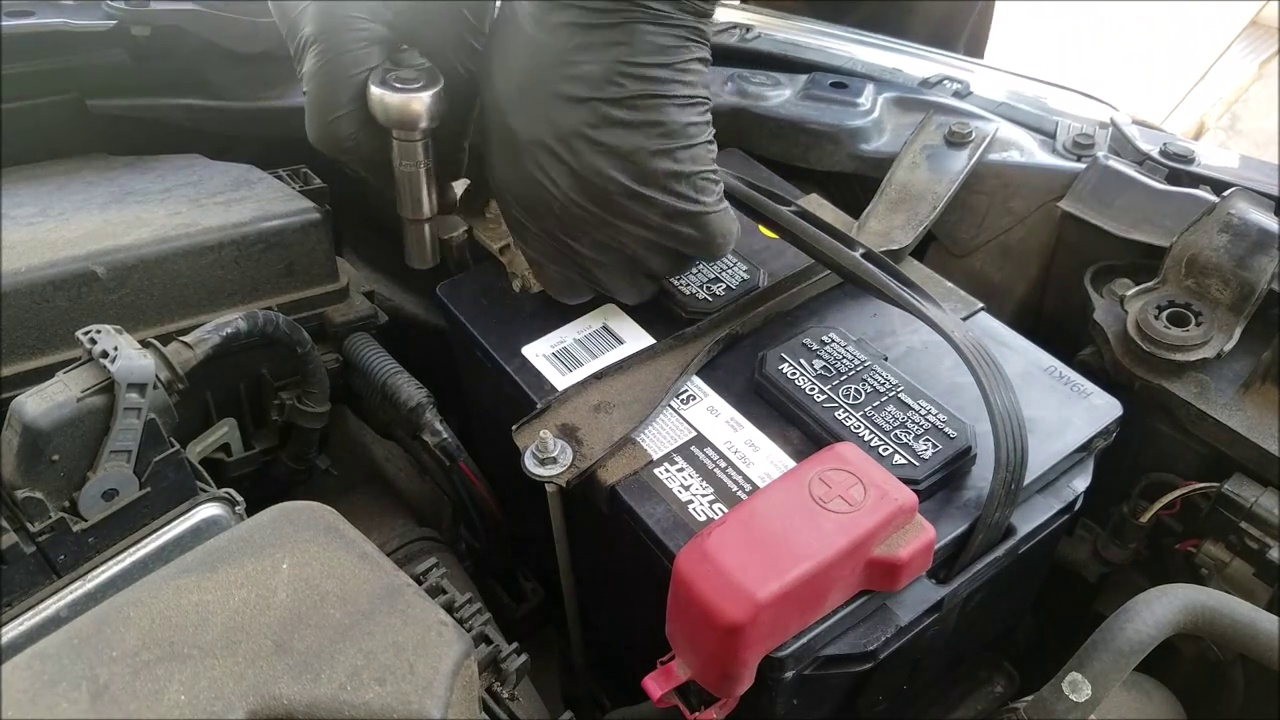battery: (410, 154, 1122, 637)
neg_touched: (349, 48, 683, 322)
pos_connected: (618, 443, 918, 674)
